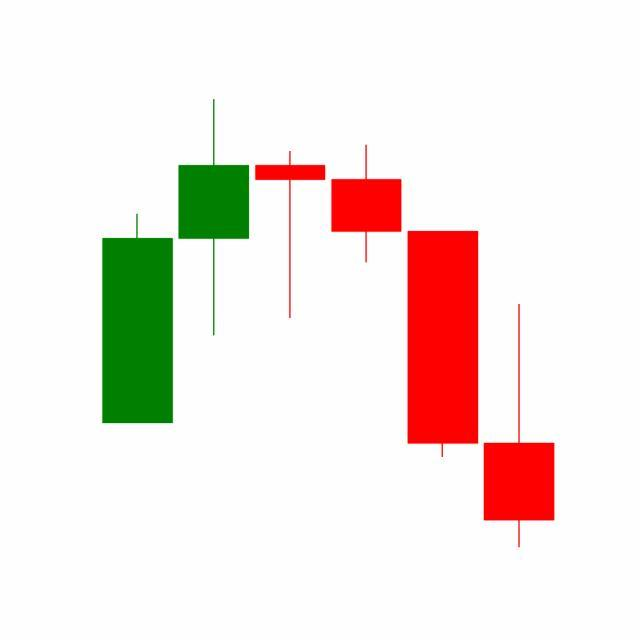Marubozu: (404, 229, 482, 460)
